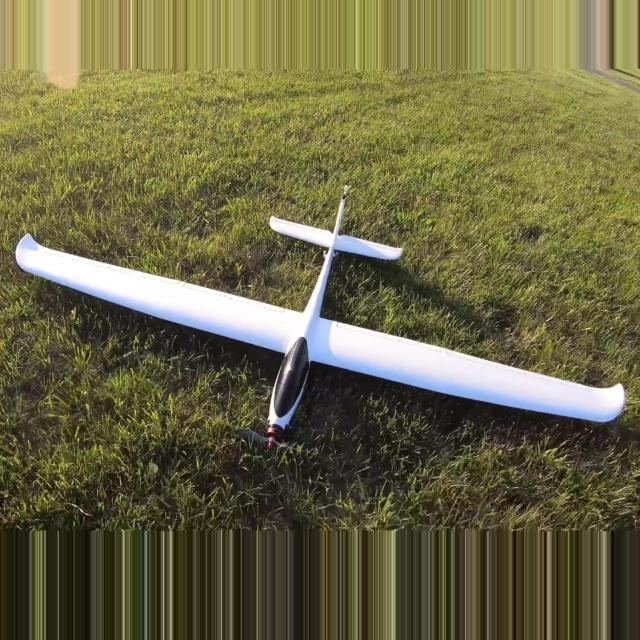iha: (13, 186, 627, 454)
